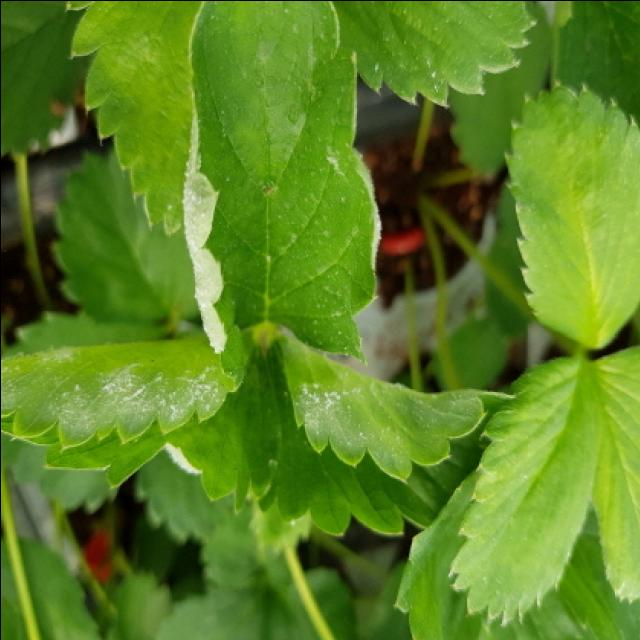Powdery Mildew Leaf: (179, 2, 383, 387), (252, 328, 519, 536), (2, 332, 281, 514)
